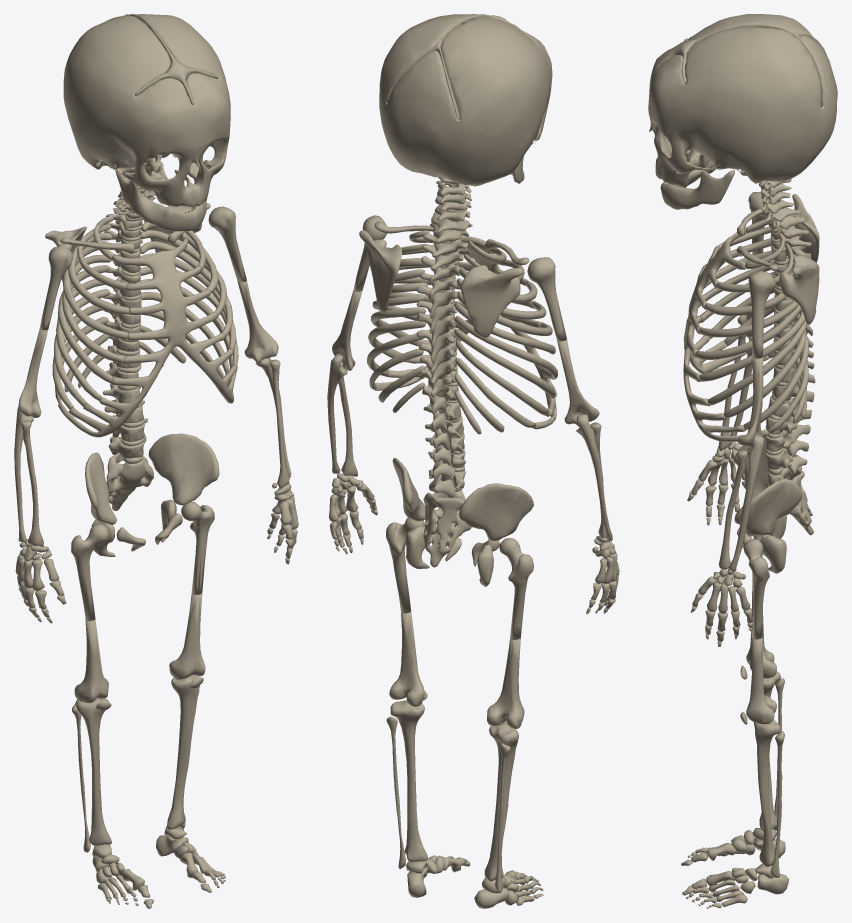
Rendered from pediatric_infant_male.skeletal.LOD1.glb.
3 renders of one model, left to right at view 1: azimuth 30°, elevation 25°; view 2: azimuth 150°, elevation 25°; view 3: azimuth 270°, elevation 25°, orthographic. The views are drawn at different scales.
Visible parts, largest first — view 1: PEDIATRIC.INFANT.MALE.SKELETAL.CRANIUM_CORTICAL, PEDIATRIC.INFANT.MALE.SKELETAL.RIBS_CORTICAL, PEDIATRIC.INFANT.MALE.SKELETAL.CARTILAGE_TRUNK, PEDIATRIC.INFANT.MALE.SKELETAL.PELVIS_CORTICAL, PEDIATRIC.INFANT.MALE.SKELETAL.TIBIAE_CORTICAL, PEDIATRIC.INFANT.MALE.SKELETAL.ANKLES_AND_FOOT_CORTICAL, PEDIATRIC.INFANT.MALE.SKELETAL.WRISTS_AND_HAND_BONES_CORTICA, PEDIATRIC.INFANT.MALE.SKELETAL.FEMORA_LOWER_CORTICAL, PEDIATRIC.INFANT.MALE.SKELETAL.FEMORA_UPPER_CORTICAL, PEDIATRIC.INFANT.MALE.SKELETAL.THORACIC_SPINE_CORTICAL, PEDIATRIC.INFANT.MALE.SKELETAL.HUMERI_LOWER_CORTICAL, PEDIATRIC.INFANT.MALE.SKELETAL.HUMERI_UPPER_CORTICAL (+10 smaller); view 2: PEDIATRIC.INFANT.MALE.SKELETAL.CRANIUM_CORTICAL, PEDIATRIC.INFANT.MALE.SKELETAL.RIBS_CORTICAL, PEDIATRIC.INFANT.MALE.SKELETAL.PELVIS_CORTICAL, PEDIATRIC.INFANT.MALE.SKELETAL.THORACIC_SPINE_CORTICAL, PEDIATRIC.INFANT.MALE.SKELETAL.SCAPULAE_CORTICAL, PEDIATRIC.INFANT.MALE.SKELETAL.TIBIAE_CORTICAL, PEDIATRIC.INFANT.MALE.SKELETAL.WRISTS_AND_HAND_BONES_CORTICA, PEDIATRIC.INFANT.MALE.SKELETAL.FEMORA_LOWER_CORTICAL, PEDIATRIC.INFANT.MALE.SKELETAL.CARTILAGE_TRUNK, PEDIATRIC.INFANT.MALE.SKELETAL.FEMORA_UPPER_CORTICAL, PEDIATRIC.INFANT.MALE.SKELETAL.ANKLES_AND_FOOT_CORTICAL, PEDIATRIC.INFANT.MALE.SKELETAL.LUMBAR_SPINE_CORTICAL (+9 smaller); view 3: PEDIATRIC.INFANT.MALE.SKELETAL.CRANIUM_CORTICAL, PEDIATRIC.INFANT.MALE.SKELETAL.RIBS_CORTICAL, PEDIATRIC.INFANT.MALE.SKELETAL.CARTILAGE_TRUNK, PEDIATRIC.INFANT.MALE.SKELETAL.WRISTS_AND_HAND_BONES_CORTICA, PEDIATRIC.INFANT.MALE.SKELETAL.ANKLES_AND_FOOT_CORTICAL, PEDIATRIC.INFANT.MALE.SKELETAL.PELVIS_CORTICAL, PEDIATRIC.INFANT.MALE.SKELETAL.SCAPULAE_CORTICAL, PEDIATRIC.INFANT.MALE.SKELETAL.LUMBAR_SPINE_CORTICAL, PEDIATRIC.INFANT.MALE.SKELETAL.TIBIAE_CORTICAL, PEDIATRIC.INFANT.MALE.SKELETAL.FEMORA_LOWER_CORTICAL, PEDIATRIC.INFANT.MALE.SKELETAL.MANDIBLE_CORTICAL, PEDIATRIC.INFANT.MALE.SKELETAL.THORACIC_SPINE_CORTICAL (+10 smaller).
Part boxes in pixels (x1=…): PEDIATRIC.INFANT.MALE.SKELETAL.CRANIUM_CORTICAL: x1=63, y1=14, x2=230, y2=207; PEDIATRIC.INFANT.MALE.SKELETAL.RIBS_CORTICAL: x1=52, y1=216, x2=238, y2=409; PEDIATRIC.INFANT.MALE.SKELETAL.CARTILAGE_TRUNK: x1=58, y1=186, x2=237, y2=463; PEDIATRIC.INFANT.MALE.SKELETAL.PELVIS_CORTICAL: x1=85, y1=433, x2=219, y2=556; PEDIATRIC.INFANT.MALE.SKELETAL.TIBIAE_CORTICAL: x1=75, y1=675, x2=199, y2=845; PEDIATRIC.INFANT.MALE.SKELETAL.ANKLES_AND_FOOT_CORTICAL: x1=92, y1=826, x2=225, y2=908; PEDIATRIC.INFANT.MALE.SKELETAL.WRISTS_AND_HAND_BONES_CORTICA: x1=15, y1=482, x2=298, y2=623; PEDIATRIC.INFANT.MALE.SKELETAL.FEMORA_LOWER_CORTICAL: x1=74, y1=593, x2=205, y2=703; PEDIATRIC.INFANT.MALE.SKELETAL.FEMORA_UPPER_CORTICAL: x1=71, y1=501, x2=214, y2=620; PEDIATRIC.INFANT.MALE.SKELETAL.THORACIC_SPINE_CORTICAL: x1=103, y1=211, x2=143, y2=368; PEDIATRIC.INFANT.MALE.SKELETAL.HUMERI_LOWER_CORTICAL: x1=18, y1=280, x2=278, y2=417; PEDIATRIC.INFANT.MALE.SKELETAL.HUMERI_UPPER_CORTICAL: x1=39, y1=206, x2=246, y2=330; PEDIATRIC.INFANT.MALE.SKELETAL.CRANIUM_CORTICAL: x1=379, y1=14, x2=552, y2=186; PEDIATRIC.INFANT.MALE.SKELETAL.RIBS_CORTICAL: x1=367, y1=230, x2=557, y2=434; PEDIATRIC.INFANT.MALE.SKELETAL.PELVIS_CORTICAL: x1=392, y1=458, x2=533, y2=586; PEDIATRIC.INFANT.MALE.SKELETAL.THORACIC_SPINE_CORTICAL: x1=416, y1=233, x2=468, y2=413; PEDIATRIC.INFANT.MALE.SKELETAL.SCAPULAE_CORTICAL: x1=359, y1=230, x2=523, y2=337; PEDIATRIC.INFANT.MALE.SKELETAL.TIBIAE_CORTICAL: x1=390, y1=700, x2=518, y2=881; PEDIATRIC.INFANT.MALE.SKELETAL.WRISTS_AND_HAND_BONES_CORTICA: x1=328, y1=473, x2=619, y2=613; PEDIATRIC.INFANT.MALE.SKELETAL.FEMORA_LOWER_CORTICAL: x1=389, y1=611, x2=524, y2=728; PEDIATRIC.INFANT.MALE.SKELETAL.CARTILAGE_TRUNK: x1=374, y1=209, x2=557, y2=491; PEDIATRIC.INFANT.MALE.SKELETAL.FEMORA_UPPER_CORTICAL: x1=386, y1=517, x2=533, y2=639; PEDIATRIC.INFANT.MALE.SKELETAL.ANKLES_AND_FOOT_CORTICAL: x1=406, y1=855, x2=543, y2=908; PEDIATRIC.INFANT.MALE.SKELETAL.LUMBAR_SPINE_CORTICAL: x1=423, y1=402, x2=465, y2=497; PEDIATRIC.INFANT.MALE.SKELETAL.CRANIUM_CORTICAL: x1=648, y1=14, x2=837, y2=186; PEDIATRIC.INFANT.MALE.SKELETAL.RIBS_CORTICAL: x1=695, y1=218, x2=808, y2=433; PEDIATRIC.INFANT.MALE.SKELETAL.CARTILAGE_TRUNK: x1=683, y1=184, x2=790, y2=475; PEDIATRIC.INFANT.MALE.SKELETAL.WRISTS_AND_HAND_BONES_CORTICA: x1=687, y1=441, x2=753, y2=646; PEDIATRIC.INFANT.MALE.SKELETAL.ANKLES_AND_FOOT_CORTICAL: x1=681, y1=828, x2=789, y2=908; PEDIATRIC.INFANT.MALE.SKELETAL.PELVIS_CORTICAL: x1=734, y1=437, x2=802, y2=573; PEDIATRIC.INFANT.MALE.SKELETAL.SCAPULAE_CORTICAL: x1=779, y1=194, x2=819, y2=324; PEDIATRIC.INFANT.MALE.SKELETAL.LUMBAR_SPINE_CORTICAL: x1=765, y1=384, x2=814, y2=474; PEDIATRIC.INFANT.MALE.SKELETAL.TIBIAE_CORTICAL: x1=753, y1=671, x2=781, y2=866; PEDIATRIC.INFANT.MALE.SKELETAL.FEMORA_LOWER_CORTICAL: x1=746, y1=586, x2=776, y2=724; PEDIATRIC.INFANT.MALE.SKELETAL.MANDIBLE_CORTICAL: x1=660, y1=161, x2=734, y2=209; PEDIATRIC.INFANT.MALE.SKELETAL.THORACIC_SPINE_CORTICAL: x1=771, y1=226, x2=815, y2=383.
Size of the model in its own units: 0.2521 by 0.7551 by 0.1509.
